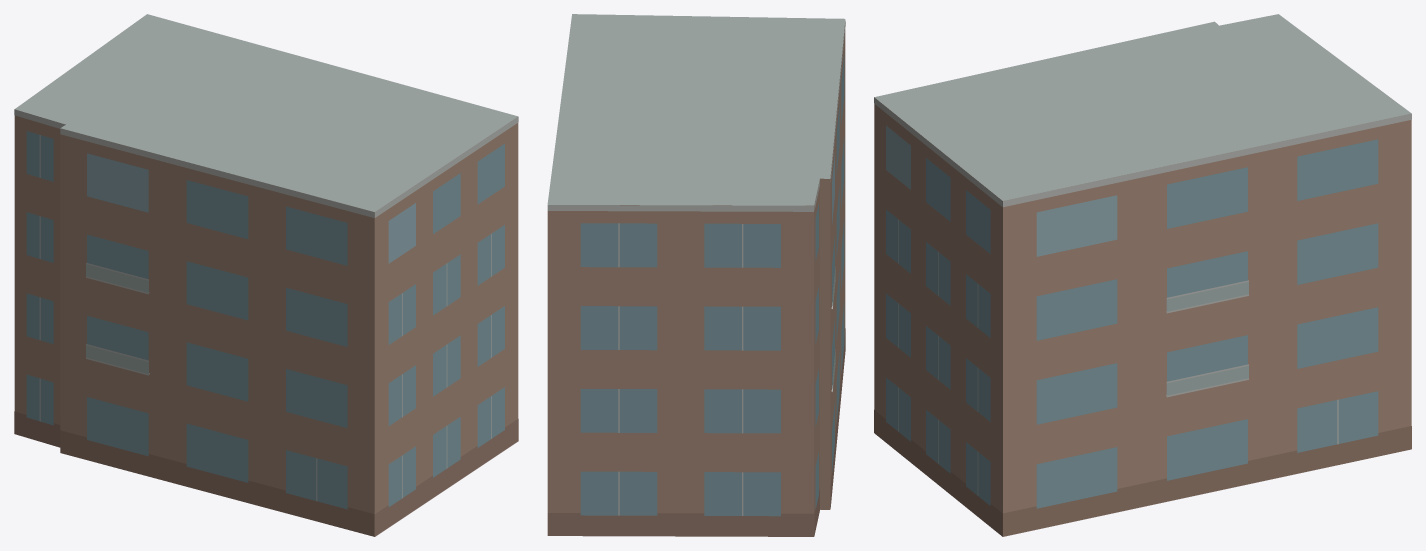
The model's file is survey-upis-32975316.glb.
3 renders of one model, left to right at view 1: azimuth 30°, elevation 25°; view 2: azimuth 150°, elevation 25°; view 3: azimuth 270°, elevation 25°, orthographic. The views are drawn at different scales.
Parts seen in each view (by area): view 1: survey-upis-32975316.tmp; view 2: survey-upis-32975316.tmp; view 3: survey-upis-32975316.tmp.
Part boxes in pixels (x1=…): survey-upis-32975316.tmp: x1=14, y1=14, x2=518, y2=536; survey-upis-32975316.tmp: x1=547, y1=14, x2=845, y2=536; survey-upis-32975316.tmp: x1=874, y1=14, x2=1411, y2=536.
Size of the model in its own units: 15.72 by 13.15 by 19.09.
